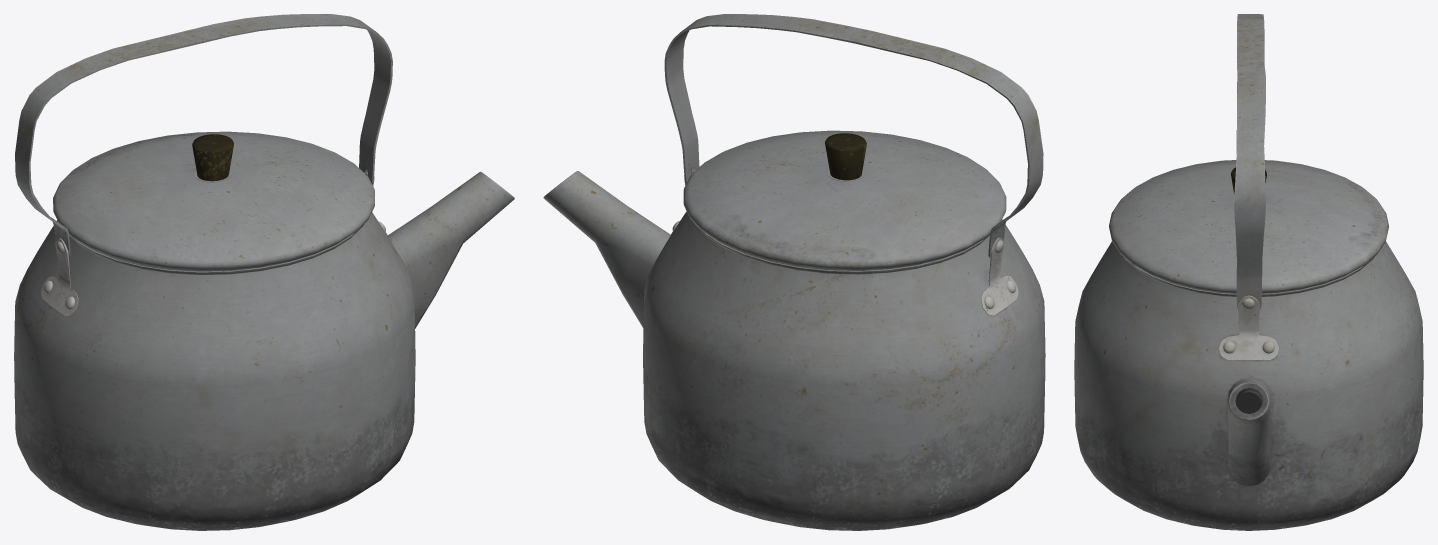
File: kettle.obj
3 renders of one model, left to right at view 1: azimuth 30°, elevation 25°; view 2: azimuth 150°, elevation 25°; view 3: azimuth 270°, elevation 25°, orthographic. The views are drawn at different scales.
Visible parts, largest first — view 1: Kettle; view 2: Kettle; view 3: Kettle.
Part boxes in pixels (bbox=[...]): Kettle: bbox=[14, 14, 514, 530]; Kettle: bbox=[543, 14, 1045, 530]; Kettle: bbox=[1074, 14, 1423, 530].
Size of the model in its own units: 0.377 by 0.3323 by 0.2559.
